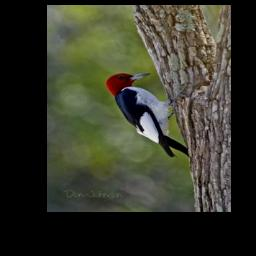Woodpecker: (102, 69, 194, 159)
